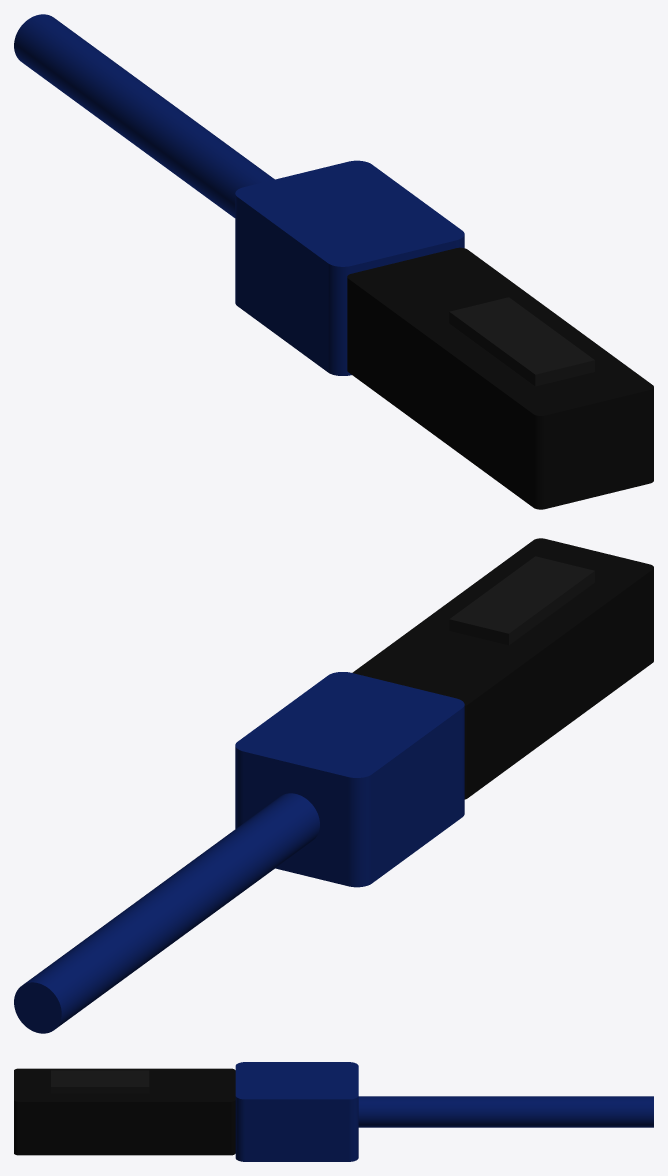
Rendered from rj45_industrial.glb.
3 renders of one model, top to bottom at view 1: azimuth 30°, elevation 25°; view 2: azimuth 150°, elevation 25°; view 3: azimuth 270°, elevation 25°, orthographic. The views are drawn at different scales.
Parts seen in each view (by area): view 1: rj45; view 2: rj45; view 3: rj45.
Boxes of the visible parts, x1,y1,x2,y2 form: rj45: [14, 14, 653, 509]; rj45: [14, 538, 653, 1033]; rj45: [14, 1062, 653, 1161].
Size of the model in its own units: 0.018 by 0.0145 by 0.13.
